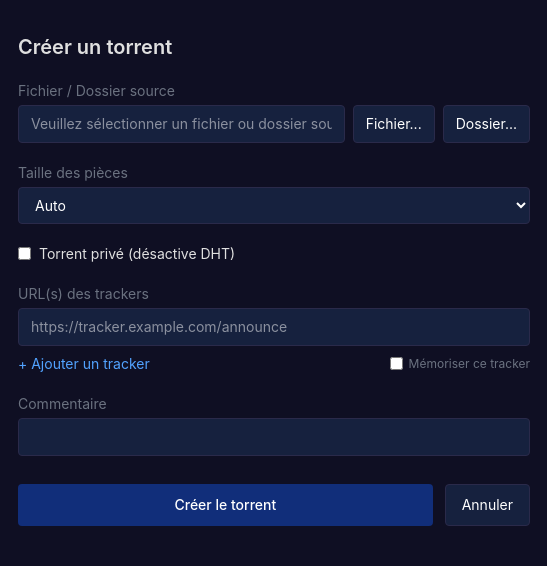
TorrentCreator › adds a tracker row when clicking '+ Ajouter'
This screenshot has width=547, height=566.
Click the button "+ Ajouter un tracker" at (84, 364), box [18,354,150,374]
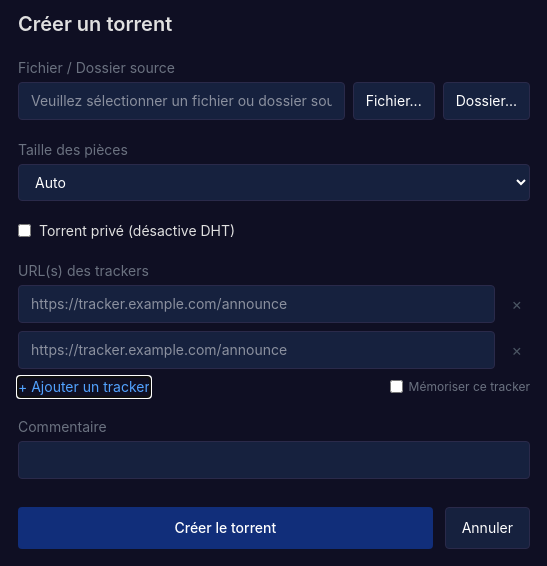
Expected: the number of fields with placeholder "https://tracker.example.com/announce" is 2, [18,284,495,322]; [18,330,495,368]
